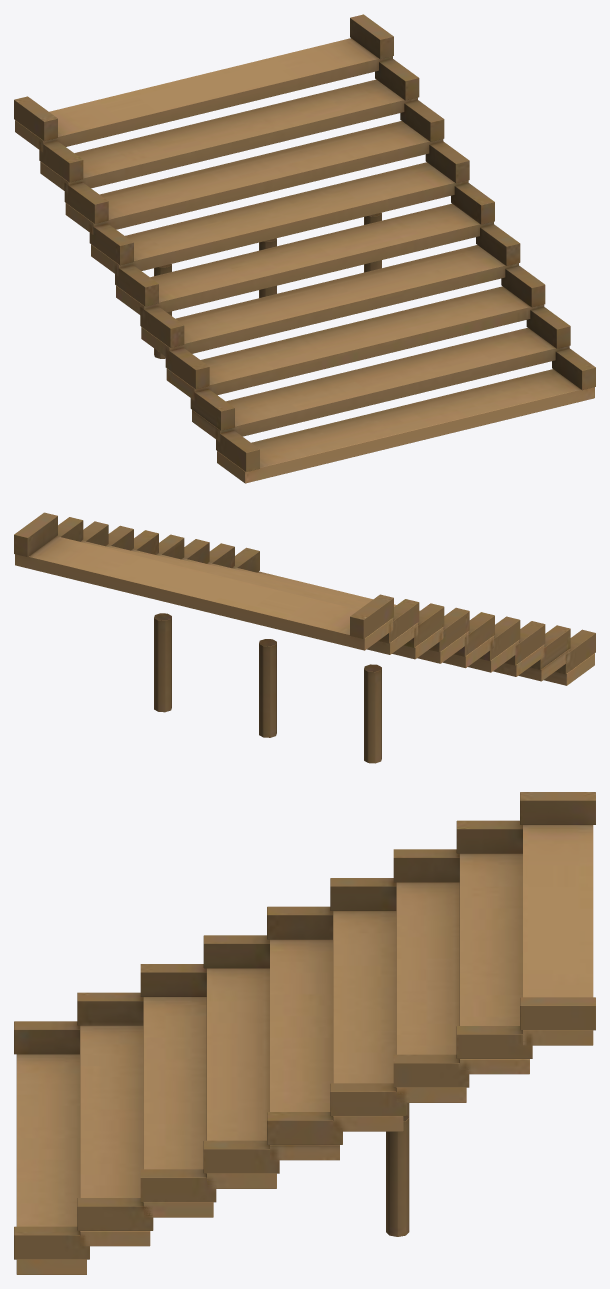
Rendered from BD_ramp.glb.
The picture shows the model from 3 angles, top to bottom: view 1: azimuth 30°, elevation 25°; view 2: azimuth 150°, elevation 25°; view 3: azimuth 270°, elevation 25°; orthographic projection. The views are drawn at different scales.
Visible parts, largest first — view 1: BD_ramp; view 2: BD_ramp; view 3: BD_ramp.
Part boxes in pixels (x1,y1,x2,y2): BD_ramp: (14,14,595,483); BD_ramp: (14,512,595,763); BD_ramp: (14,792,595,1274).
Size of the model in its own units: 3 by 1.76 by 3.45.
Materials: 1 (1 with a texture image).
